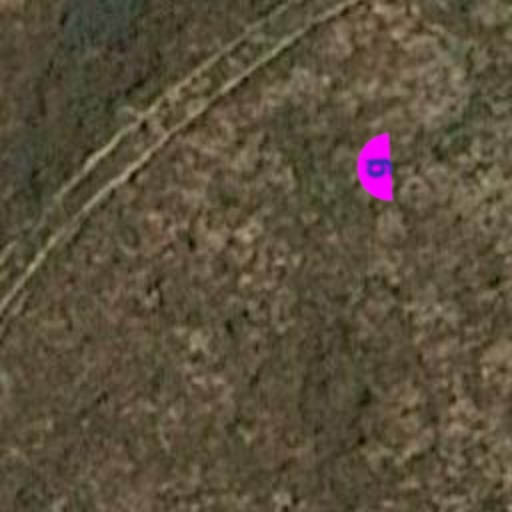semicircle: (338, 132, 410, 204)
